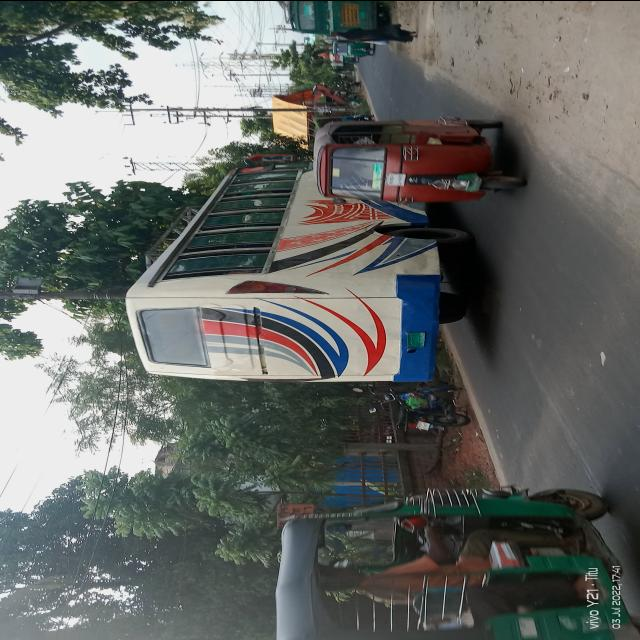bus: (112, 199, 495, 397)
